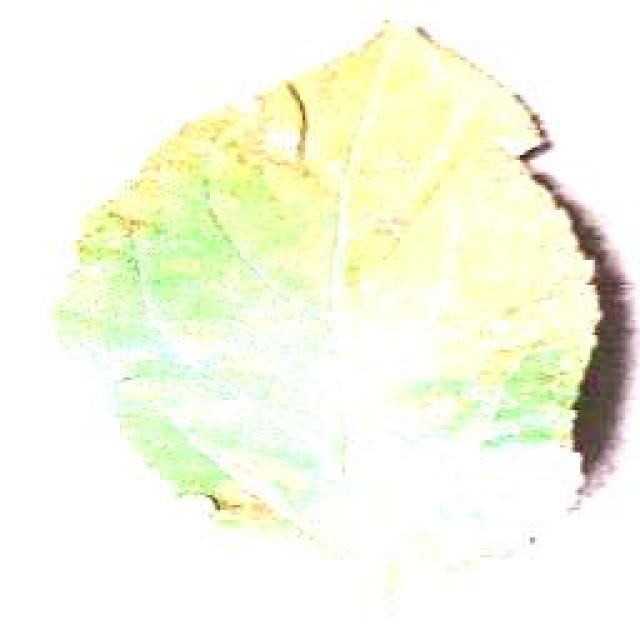apple cedar apple rust: (50, 15, 638, 570)
